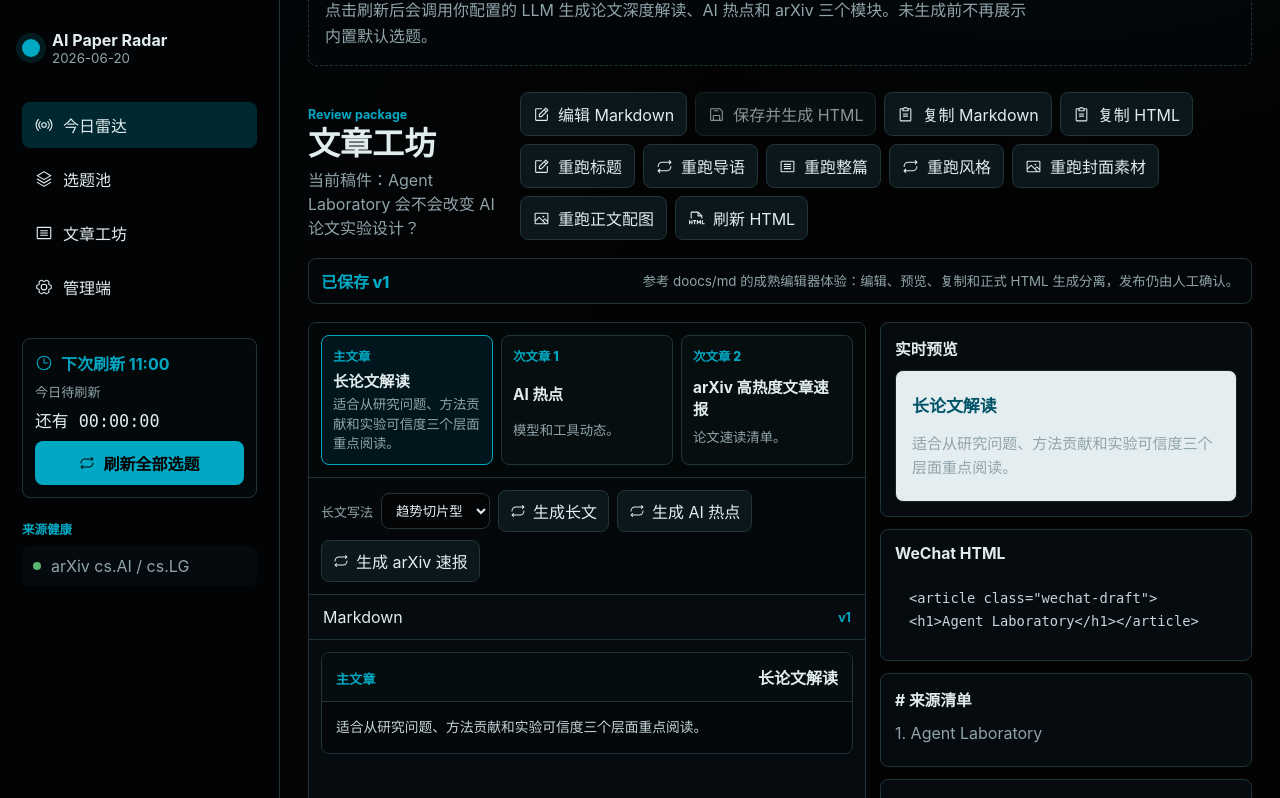
Test: switches the visible article module without showing the full package
(page scrolled)
Click the tab "次文章 1 AI 热点 模型和工具动态。".
click(587, 400)  # box [501, 335, 673, 465]
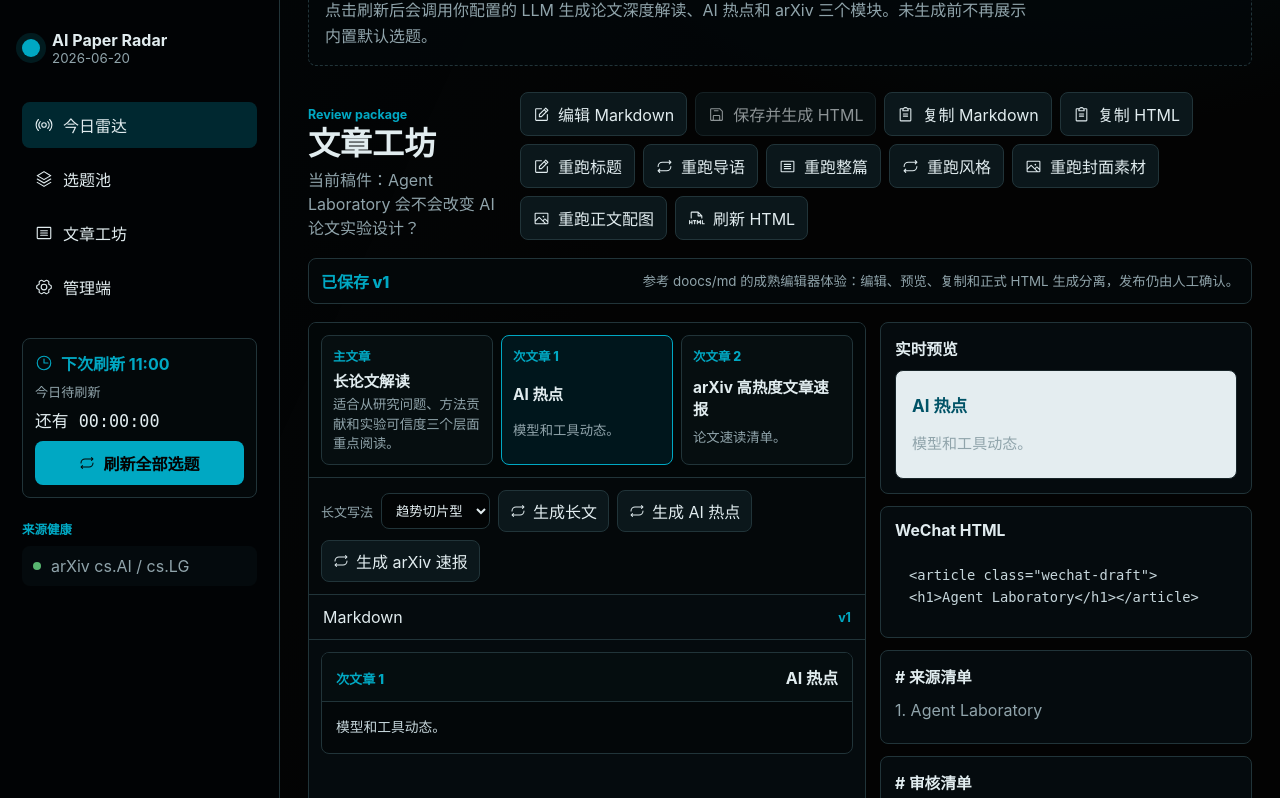
Check: the element with test id "article-module-hotspots" shows "模型和工具动态。", box [336, 719, 446, 735]
Click the tab "次文章 2 arXiv 高热度文章速报 论文速读清单。".
click(767, 400)  # box [681, 335, 853, 465]
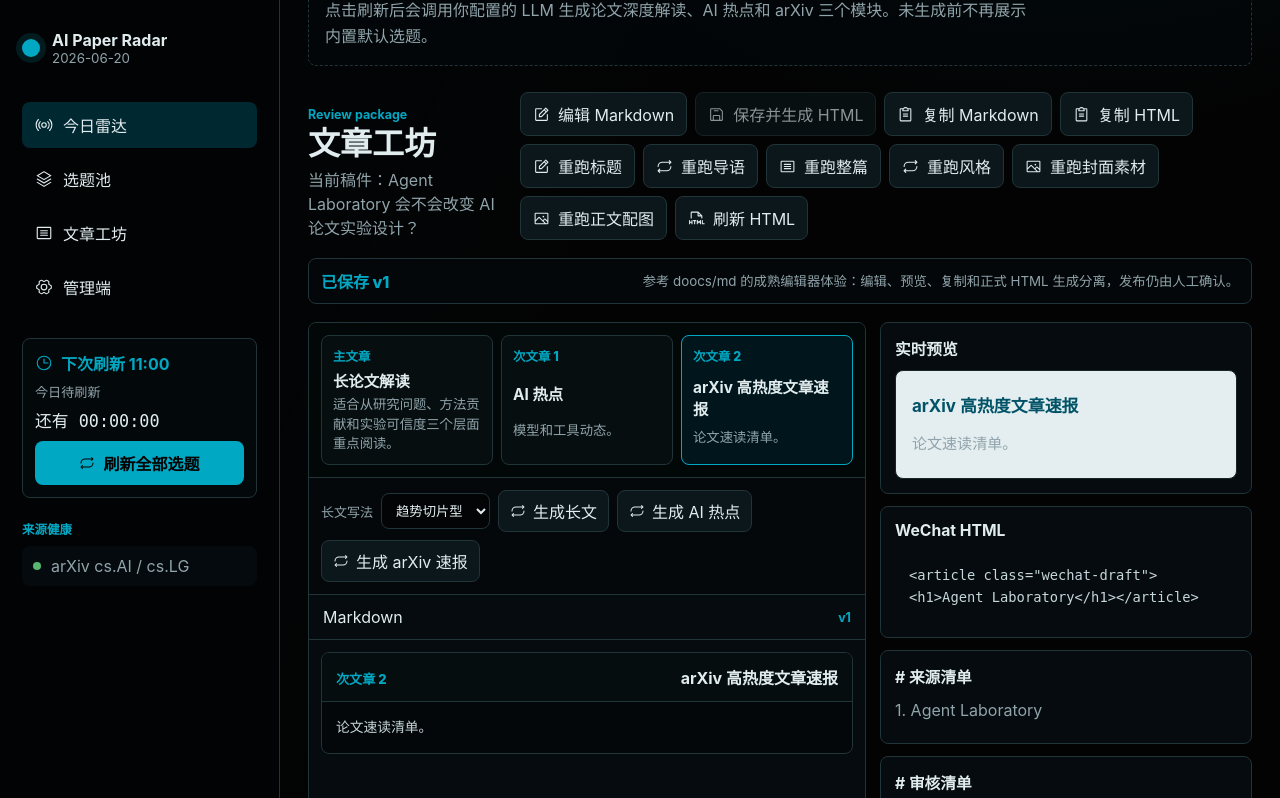
Check: the element with test id "article-module-arxiv" shows "论文速读清单。", box [336, 719, 432, 735]
